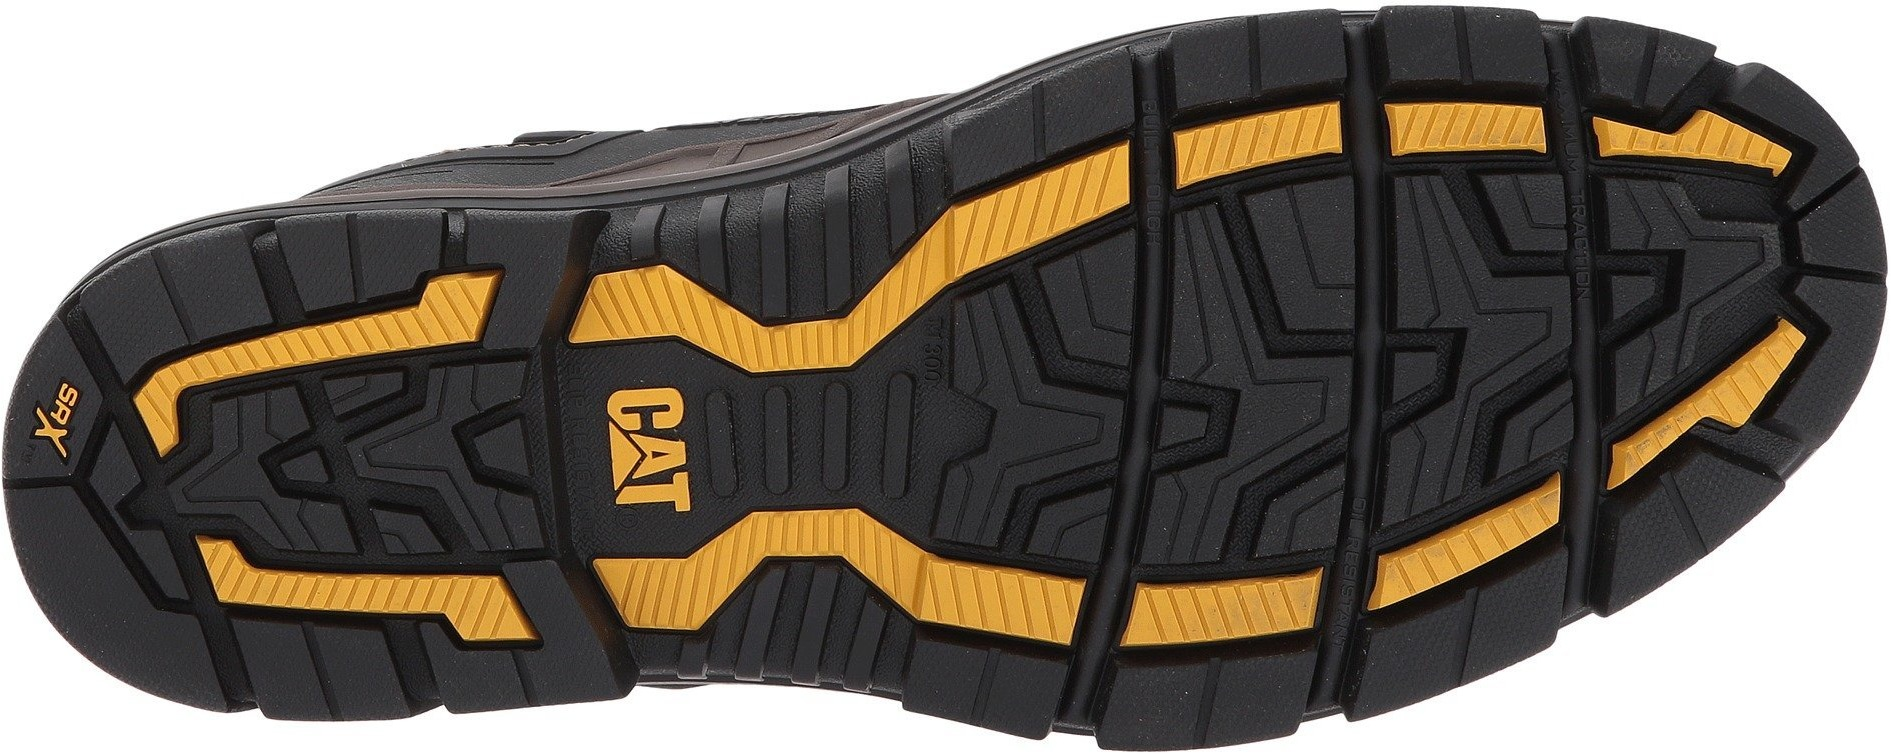quad: (233, 604, 399, 742), (759, 374, 921, 497), (1387, 1, 1558, 97), (1105, 635, 1243, 741)
text: (582, 374, 704, 512), (17, 384, 96, 460)
